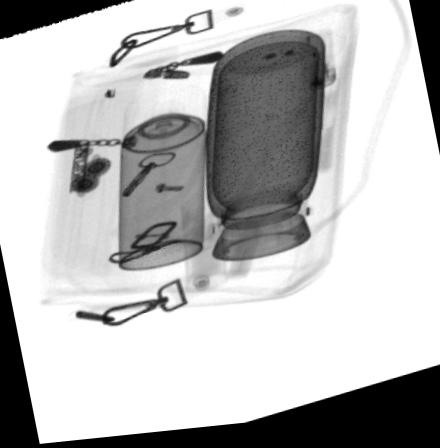Lighter: (298, 33, 336, 99)
Sprayer: (119, 89, 206, 273)
